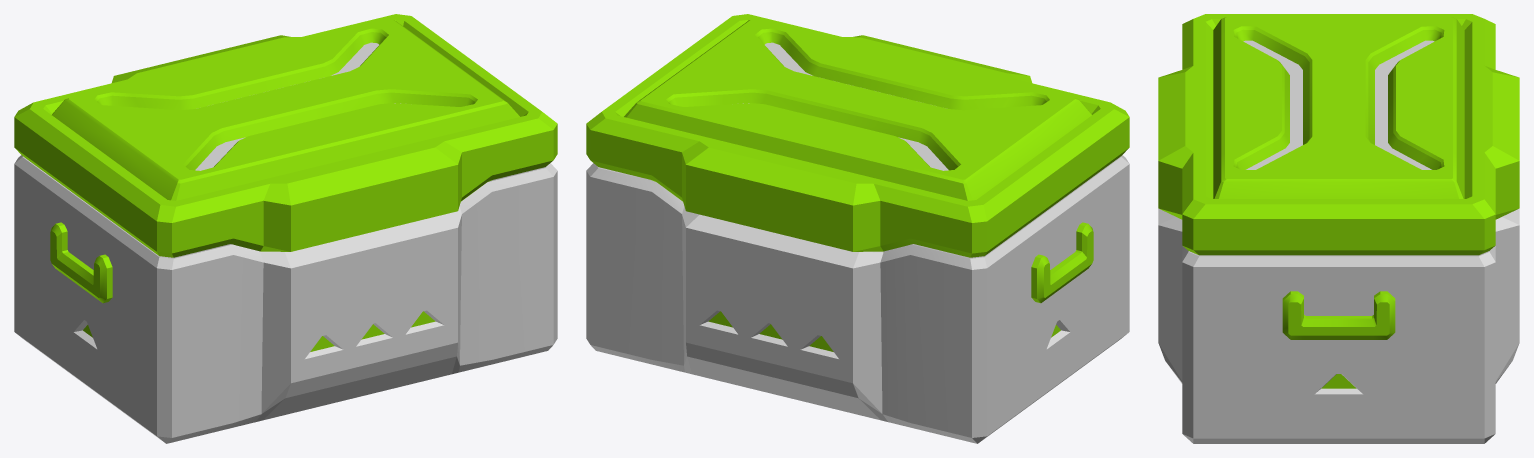
File: AmmoBox B Mat.fbx
3 renders of one model, left to right at view 1: azimuth 30°, elevation 25°; view 2: azimuth 150°, elevation 25°; view 3: azimuth 270°, elevation 25°, orthographic. The views are drawn at different scales.
Visible parts, largest first — view 1: Ammo Box B Mat, Ammo Box B Mat.001; view 2: Ammo Box B Mat, Ammo Box B Mat.001; view 3: Ammo Box B Mat.001, Ammo Box B Mat.
Part boxes in pixels (<box>): Ammo Box B Mat: <box>14,155,557,443</box>; Ammo Box B Mat.001: <box>14,14,557,257</box>; Ammo Box B Mat: <box>586,155,1129,443</box>; Ammo Box B Mat.001: <box>586,14,1129,257</box>; Ammo Box B Mat.001: <box>1158,14,1519,255</box>; Ammo Box B Mat: <box>1158,208,1519,443</box>.
Size of the model in its own units: 0.7908 by 0.4403 by 0.5755.
